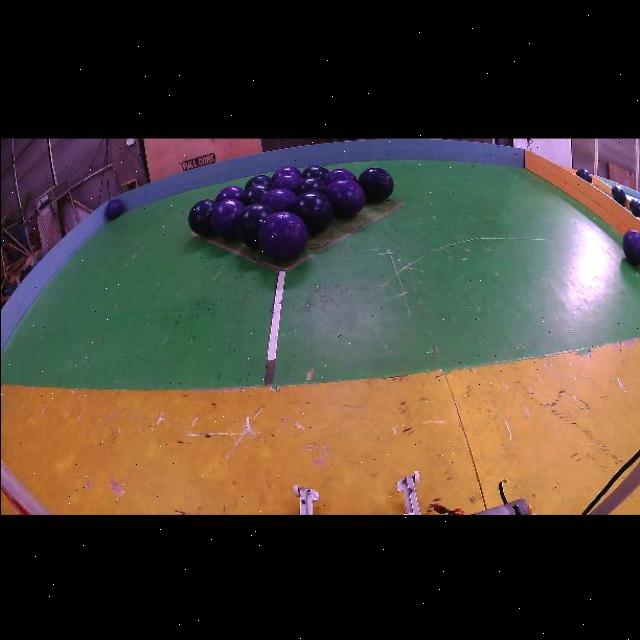B: (289, 189, 333, 232), (235, 202, 274, 244), (357, 165, 393, 201), (187, 198, 215, 233), (240, 182, 270, 204), (292, 176, 326, 194), (104, 198, 123, 218), (244, 173, 271, 187), (300, 164, 327, 178), (611, 184, 625, 203), (574, 167, 591, 181), (628, 197, 640, 216)
P: (257, 210, 308, 259), (323, 177, 364, 216), (210, 197, 244, 237), (259, 186, 296, 210), (621, 228, 640, 263), (323, 167, 356, 182), (271, 172, 300, 189), (215, 184, 242, 201), (271, 164, 300, 178)
